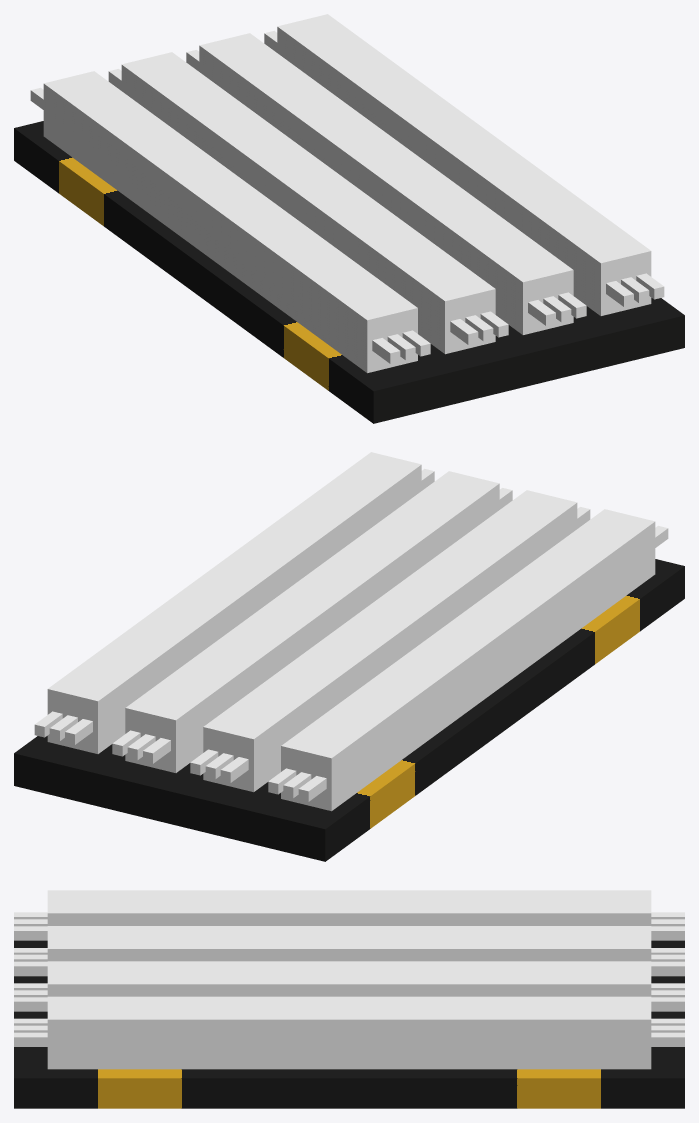
File: platform.gltf
The picture shows the model from 3 angles, top to bottom: view 1: azimuth 30°, elevation 25°; view 2: azimuth 150°, elevation 25°; view 3: azimuth 270°, elevation 25°; orthographic projection. The views are drawn at different scales.
Visible parts, largest first — view 1: wire (×4), platform; view 2: wire (×4), platform; view 3: wire (×4), platform.
Boxes of the visible parts, <box> form: wire (×4): <box>30,14,664,373</box>; platform: <box>14,121,684,423</box>; wire (×4): <box>34,452,668,811</box>; platform: <box>14,559,684,861</box>; wire (×4): <box>14,890,684,1069</box>; platform: <box>14,940,684,1108</box>.
Size of the model in its own units: 1 by 0.2687 by 2.
2 materials, 1 textured.
